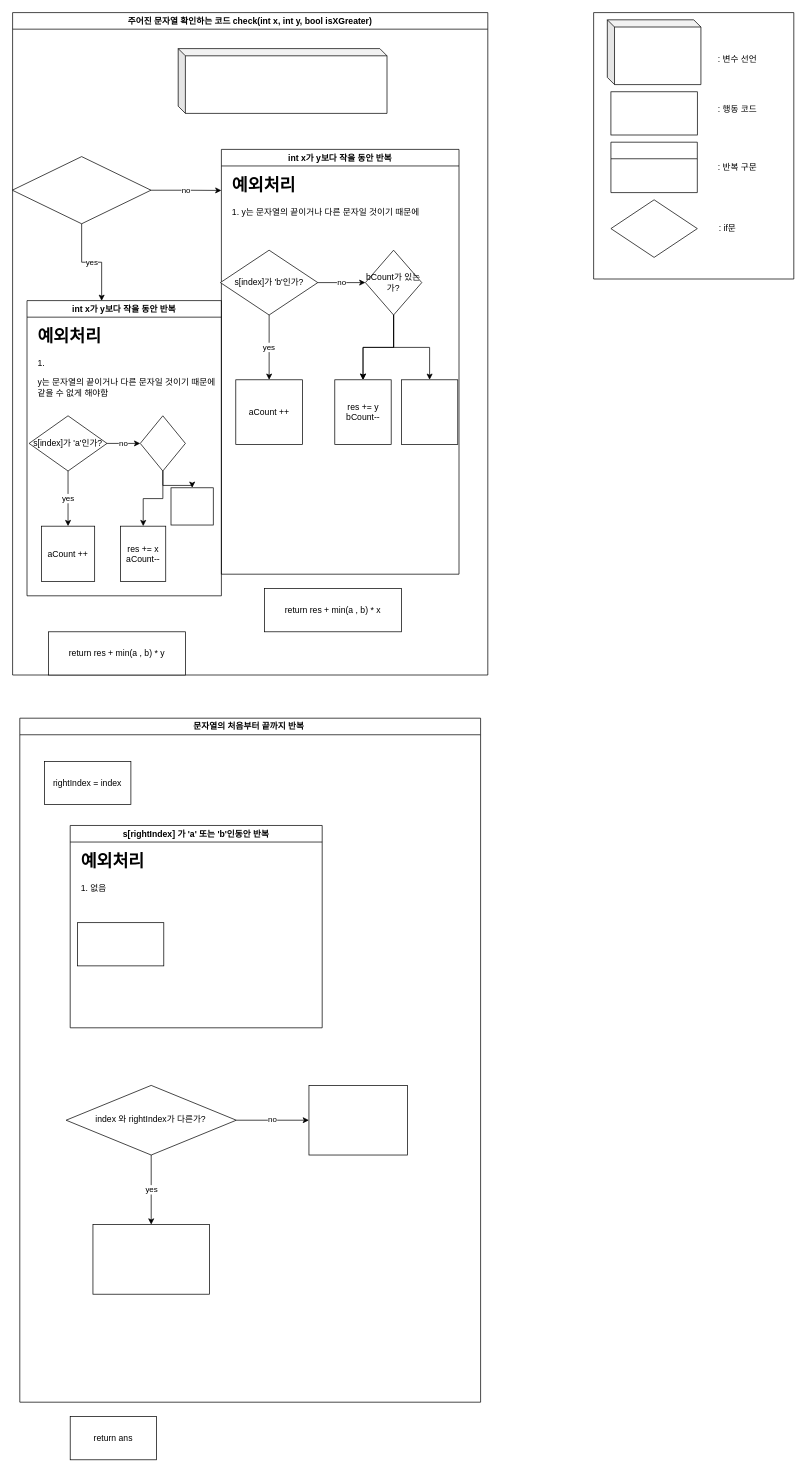
This 807x1472 diagram has some shape labels left out. The shapes that lost their labels are listed below. From the top down, each one's centre as x and y in pixels, then its label:
At (653,167): "~ 동안".
At (81,190): "isXGreater 참인가?".
At (429,412): "aCount++".
At (162,443): "aCount가 있는가?".
At (191,506): "bCount++".
At (120,944): "rightIndex++".
At (357,1120): "index++".
At (150,1259): "answer += ack(index, rightIndex, index".
